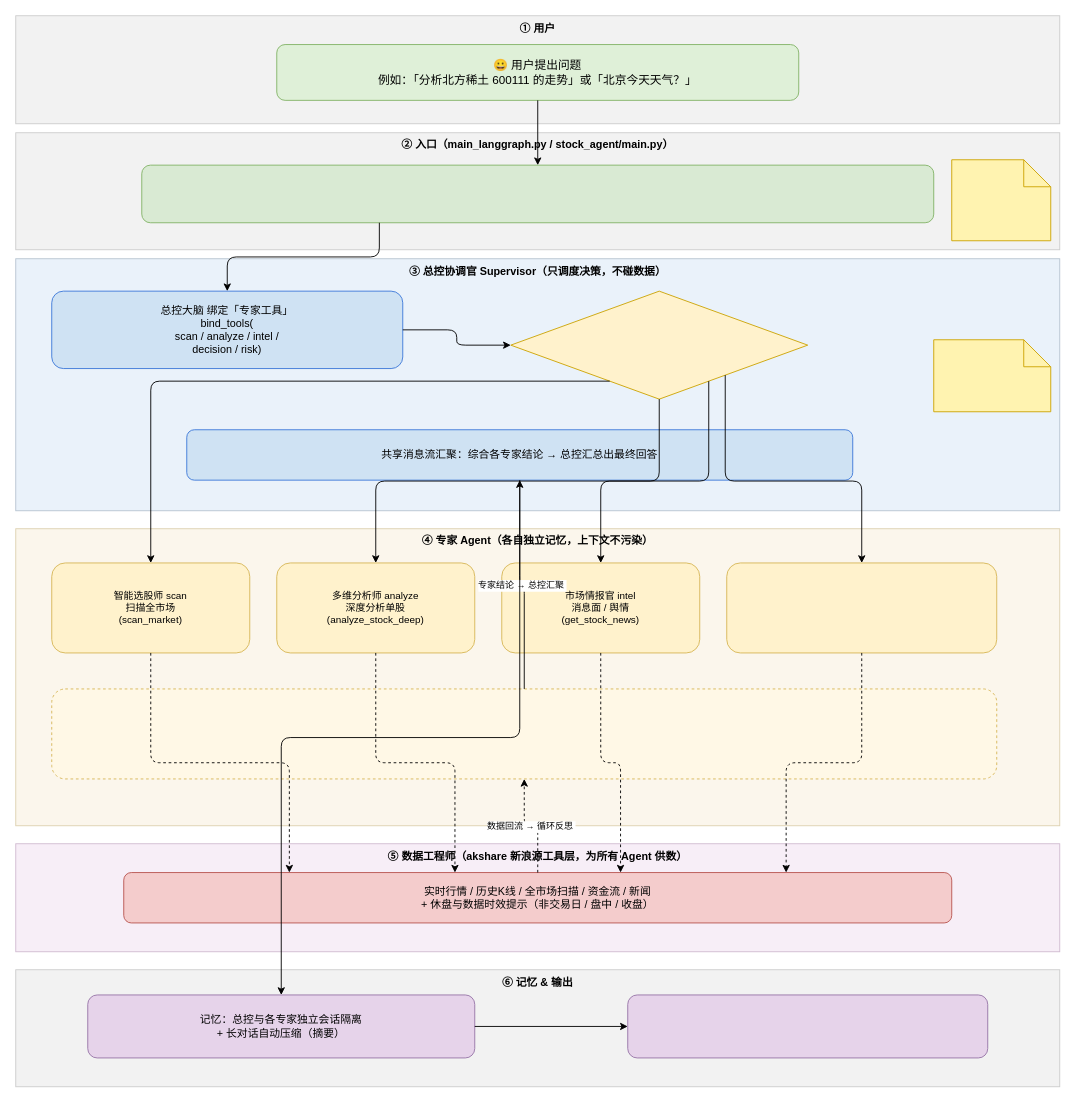
Image size: 1091x1103. Some labels were removed from this diagram. The shapes that lost their labels are listed below. From the top down, each one's centre as x and y in pixels, then its label:
At pixel 537 193: "入口分发 & 提问引导 · /report → 投研流水线 · 普通提问 → 总控协调官（多 agent）/ 单 agent".
At pixel 1001 200: "单 agent 路径：模型直接 bind 数据工具，同样 Send 并行执行 + 失败重试 + 记忆压缩".
At pixel 659 344: "路由：识别诉求类型 描述性 → 只派对应专家 决策类 → 再加 decision + risk".
At pixel 992 375: "/report → 流水线 screener→(analyst+intel)→decision→risk 按共享 ResearchState 字段传递".
At pixel 861 607: "投资/风险官 decision · risk (资金流+技术复核，一票否决)".
At pixel 524 733: "每个专家内部 = LangGraphAgent 循环：大脑(提案) ⇄ 动作(执行工具) ⇄ 看结果再决策（多轮反思，Send 并行）".
At pixel 807 1026: "② 流式输出最终回答 只显示模型说话，不吐专家原始结果".
